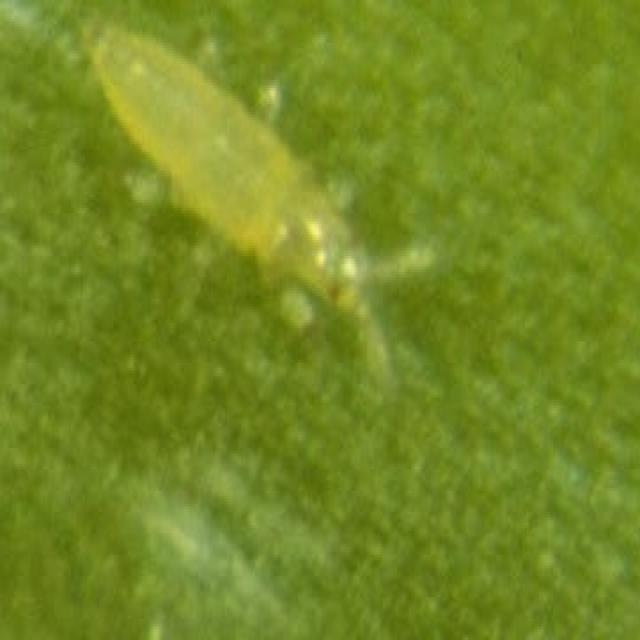Thrip-Larva-: (67, 11, 464, 406)
